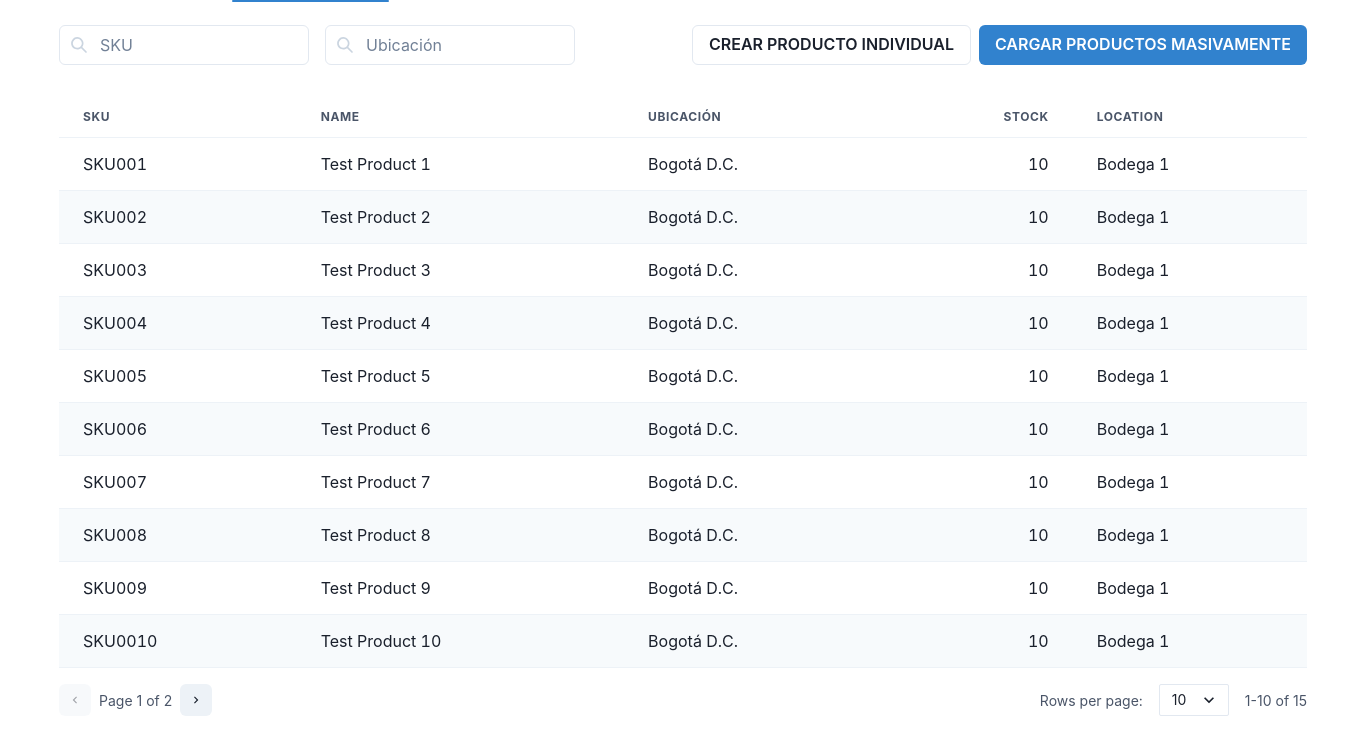
it: Products Component › handles pagination - navigates to next page
The image size is (1366, 748).
(page scrolled)
Expected: the text "SKU001" is shown, [59,138,297,190]
# Find and click the "Next page" button
Click the button named "Next page".
click(196, 700)  # box [180,684,212,716]
(page scrolled)
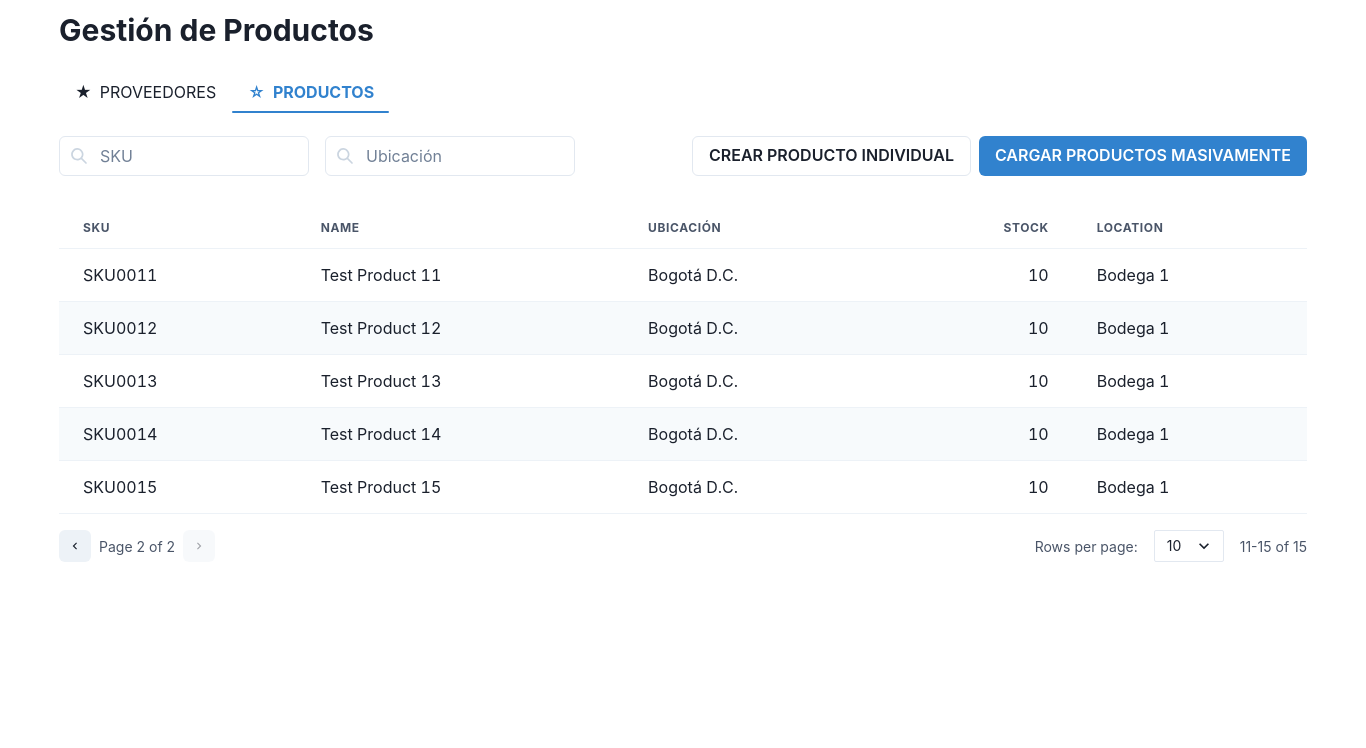
Expected: the text "Page 2 of 2" is shown, [99,536,175,556]
